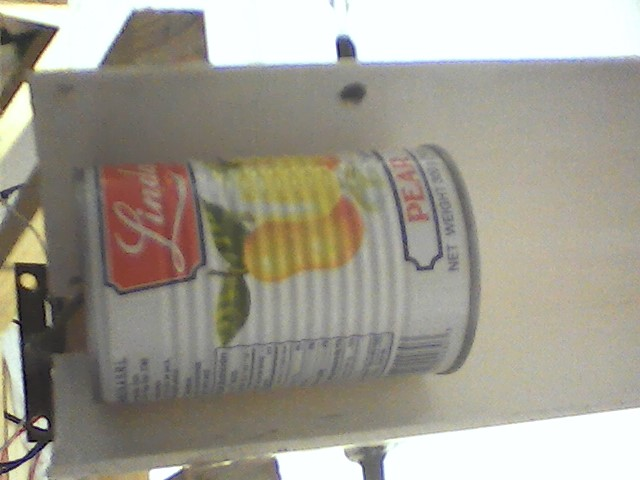lata: (72, 140, 491, 416)
